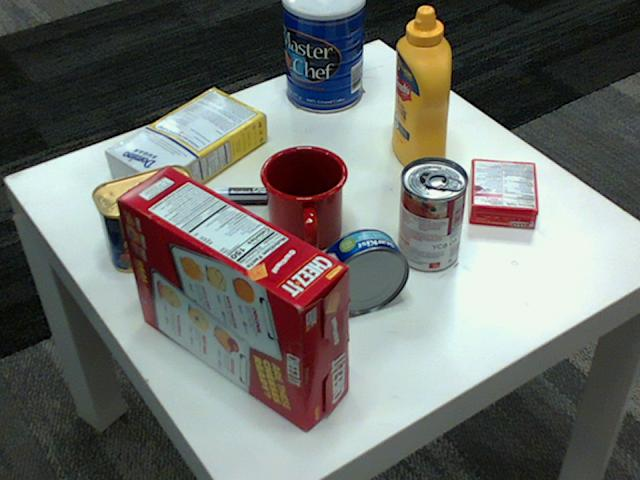cracker_box: (115, 165, 348, 428)
gelatin_box: (471, 159, 539, 227)
large_marker: (211, 186, 318, 206)
master_chef_can: (281, 0, 363, 112)
mug: (260, 142, 349, 251)
mustard_bottle: (391, 7, 450, 174)
potted_meat_can: (93, 164, 201, 272)
sugar_box: (106, 86, 268, 206)
tomato_soup_can: (397, 157, 467, 271)
tuna_fish_can: (319, 228, 409, 312)
